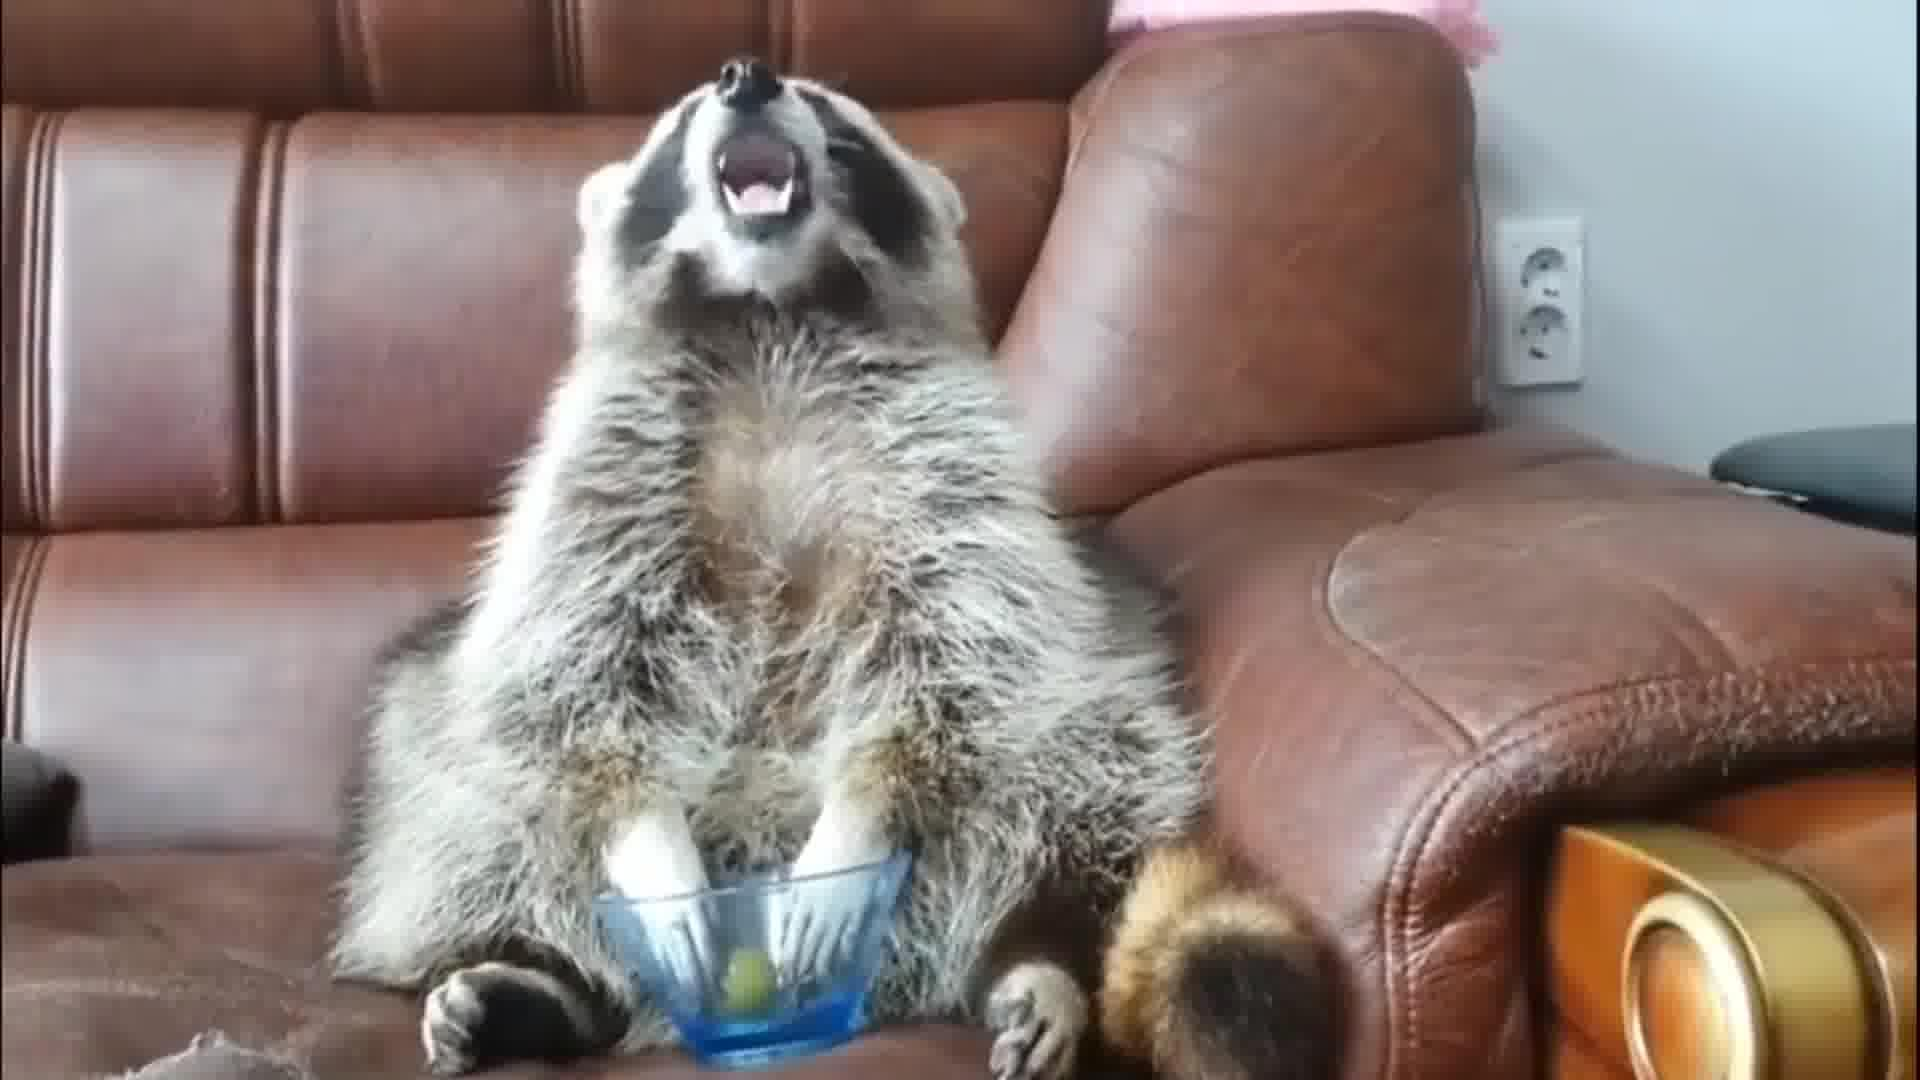raccoon: (320, 54, 1364, 1080)
